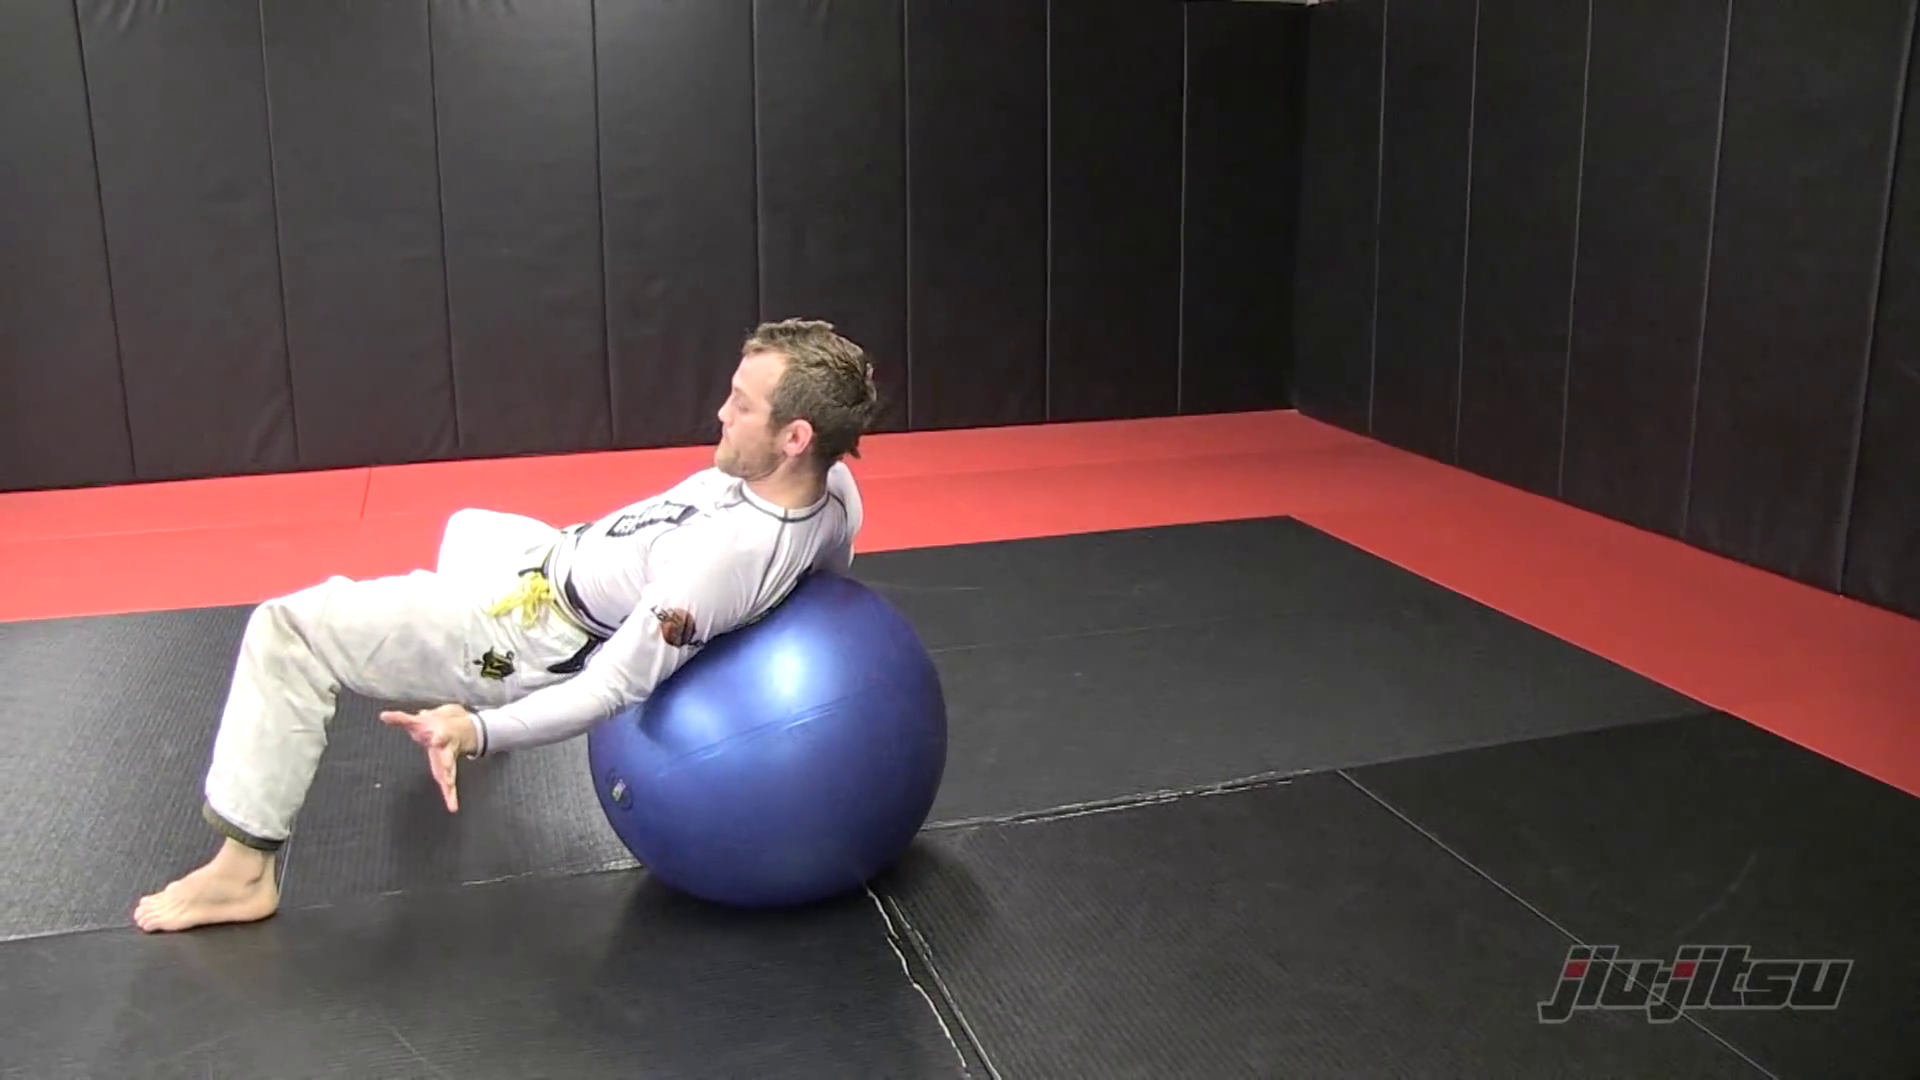yogaball: (582, 562, 968, 924)
